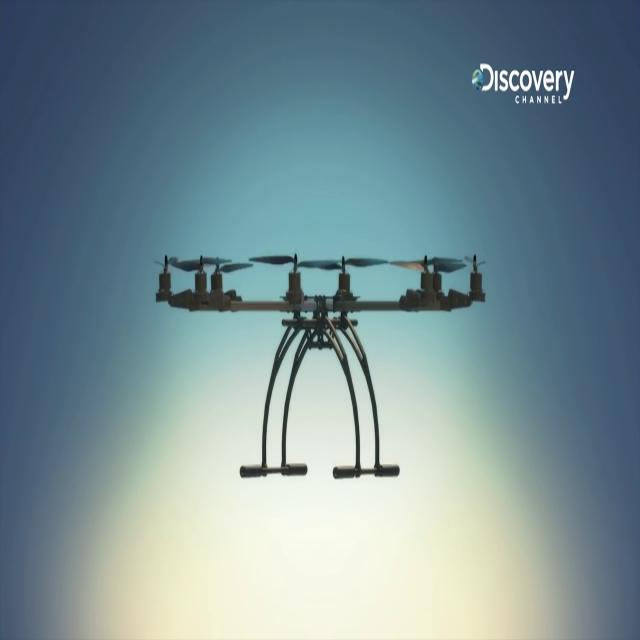drone: (136, 176, 508, 528)
